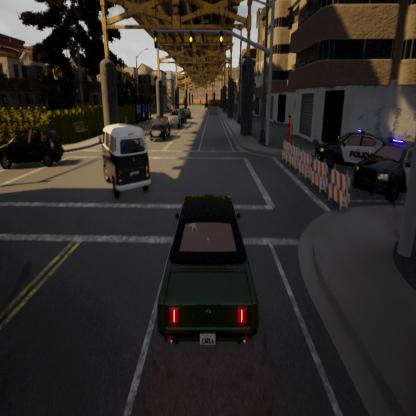Cars: (158, 196, 258, 345), (354, 140, 416, 202), (101, 124, 150, 199), (316, 129, 388, 167), (0, 128, 63, 168), (150, 117, 169, 140), (168, 108, 181, 127), (178, 109, 186, 123), (184, 106, 191, 118), (204, 101, 208, 109)
Pedestrian: (287, 114, 293, 147)
